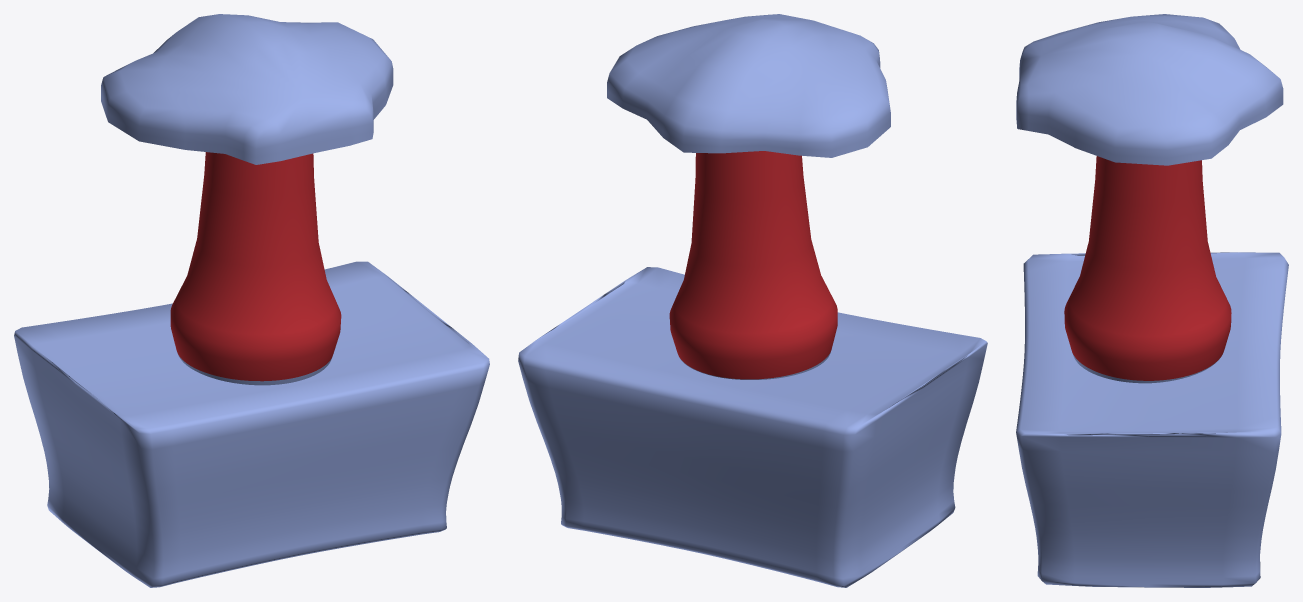
The model's file is stamp2.fbx.
3 views of the same model, side by side, from view 1: azimuth 30°, elevation 25°; view 2: azimuth 150°, elevation 25°; view 3: azimuth 270°, elevation 25° (orthographic). The views are drawn at different scales.
Parts seen in each view (by area): view 1: Cube.007; view 2: Cube.007; view 3: Cube.007.
Part boxes in pixels (box(x1,y1,x2,y2)): Cube.007: box(14, 14, 489, 587); Cube.007: box(518, 14, 987, 587); Cube.007: box(1016, 14, 1288, 587).
Size of the model in its own units: 70.35 by 94.79 by 47.95.
